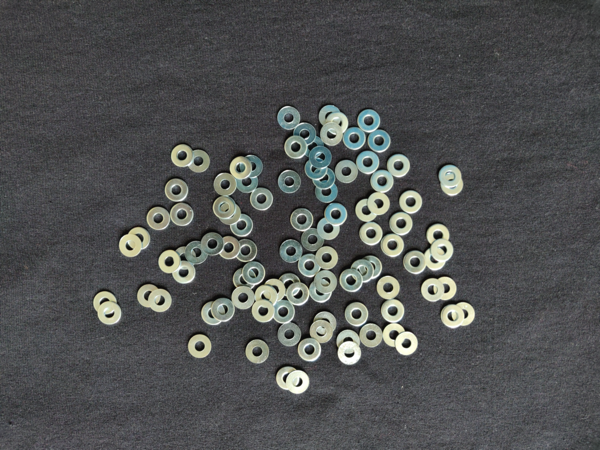circle: (186, 333, 212, 361), (286, 370, 312, 397), (426, 222, 452, 249), (440, 304, 466, 331), (451, 302, 476, 330), (145, 205, 171, 231), (185, 149, 211, 175), (212, 297, 237, 324), (276, 104, 301, 131), (358, 254, 383, 281), (431, 276, 458, 301), (201, 301, 225, 329), (94, 291, 120, 316), (253, 283, 278, 309), (387, 152, 413, 177), (317, 245, 342, 271), (298, 338, 323, 364), (275, 366, 301, 391), (314, 310, 339, 336), (337, 343, 363, 368), (359, 324, 384, 350), (376, 275, 402, 300), (339, 268, 364, 294), (164, 177, 191, 201), (242, 260, 266, 287), (245, 338, 269, 365), (324, 200, 348, 227), (387, 212, 414, 236), (278, 321, 301, 349), (171, 260, 196, 285), (172, 246, 197, 271), (231, 285, 256, 310), (170, 143, 195, 168), (251, 300, 276, 325), (345, 302, 370, 327), (337, 329, 362, 354), (424, 248, 449, 273), (136, 284, 162, 308), (292, 122, 318, 146), (317, 217, 341, 243), (298, 253, 322, 279), (381, 234, 407, 258), (233, 171, 260, 194), (239, 152, 263, 177), (278, 170, 302, 195), (284, 136, 309, 160), (304, 157, 329, 181), (335, 160, 359, 185), (355, 197, 379, 222), (290, 207, 314, 232), (279, 240, 304, 264), (299, 228, 324, 252), (286, 282, 311, 306), (277, 273, 301, 298), (382, 323, 407, 347), (421, 276, 443, 303), (170, 203, 194, 227), (229, 156, 253, 180), (250, 187, 274, 211), (321, 123, 345, 147), (313, 270, 337, 294), (309, 281, 333, 305), (396, 332, 420, 356), (382, 299, 406, 323), (350, 259, 374, 283), (439, 163, 463, 187), (219, 202, 242, 227), (325, 112, 350, 135), (357, 110, 382, 133), (357, 150, 380, 175), (368, 191, 391, 216), (96, 302, 122, 324), (231, 269, 257, 291), (311, 167, 337, 189), (318, 104, 344, 126), (235, 239, 258, 263), (214, 173, 238, 196), (213, 196, 237, 219), (301, 134, 324, 158), (343, 127, 366, 151), (368, 129, 391, 153), (310, 320, 333, 344), (400, 191, 423, 215), (360, 223, 384, 246), (404, 251, 427, 275), (432, 239, 455, 263), (148, 290, 173, 312), (308, 147, 334, 168), (263, 278, 286, 301), (371, 170, 394, 193), (159, 249, 181, 273), (201, 232, 223, 256), (232, 213, 254, 237), (441, 175, 465, 197), (271, 302, 296, 323), (119, 234, 142, 256), (185, 241, 208, 263), (127, 228, 151, 249), (315, 182, 339, 203), (220, 236, 239, 260)
